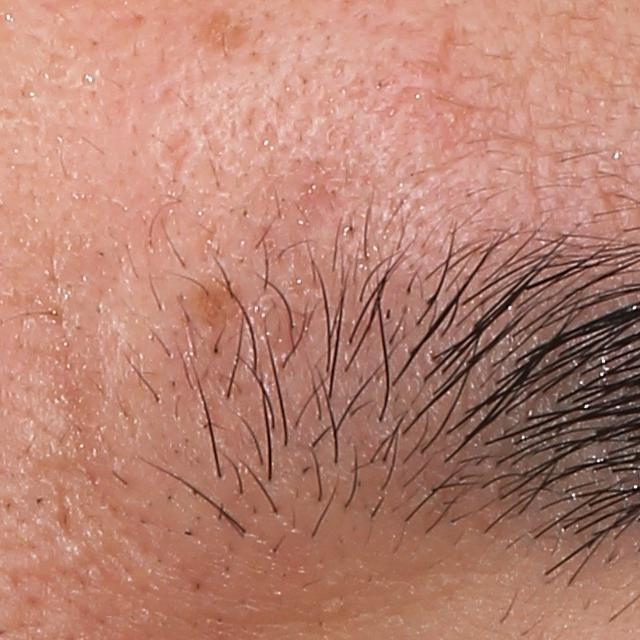atrophic_scar: (37, 378, 103, 496), (403, 26, 462, 85), (439, 92, 499, 148), (156, 125, 201, 192), (197, 5, 255, 55), (301, 157, 349, 212), (53, 480, 75, 541)
